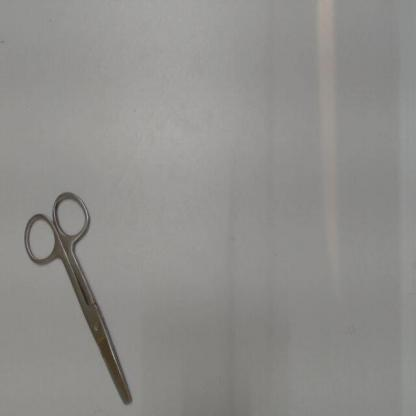Dressing Scissors: (12, 178, 141, 414)
